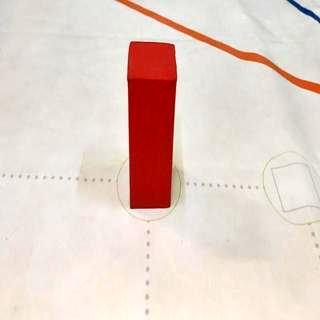redbox: (127, 42, 173, 210)
